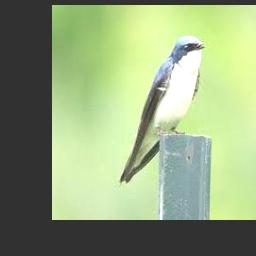Swallow: (119, 36, 207, 184)
